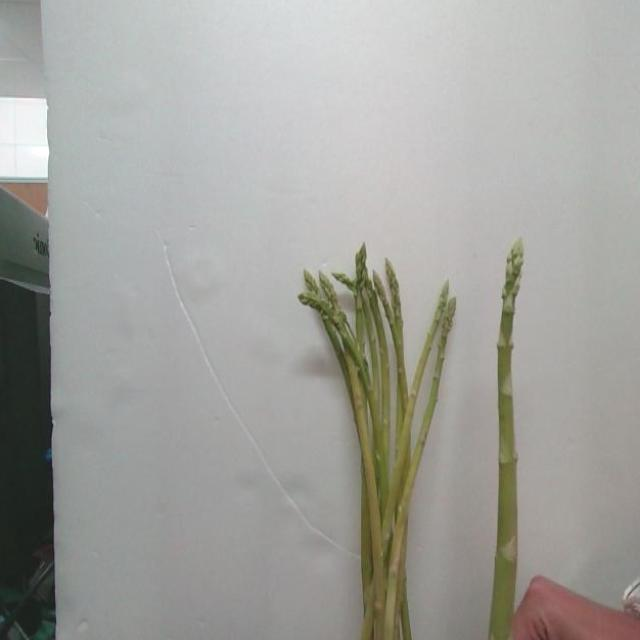aspargus: (491, 242, 527, 640)
